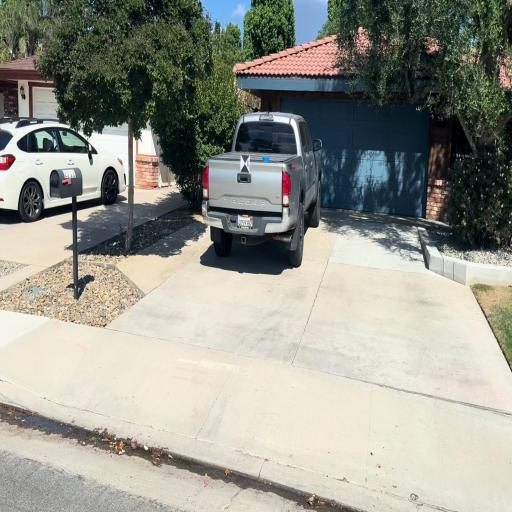target1: (241, 155, 249, 172)
